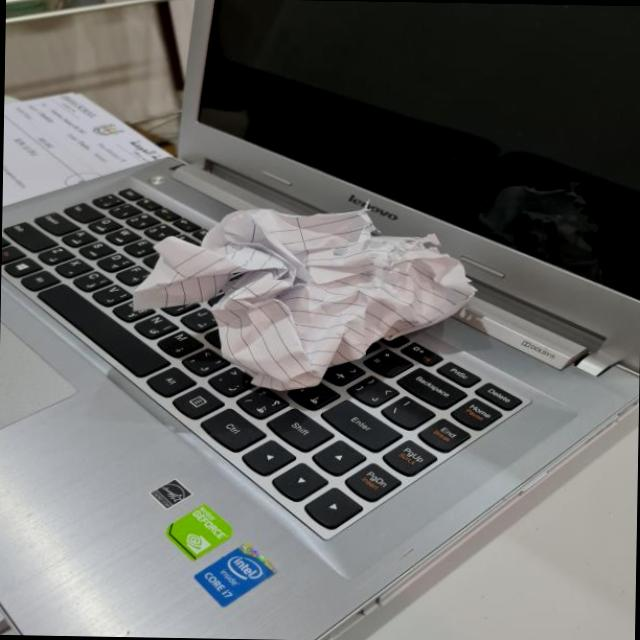trash: (141, 207, 472, 397)
